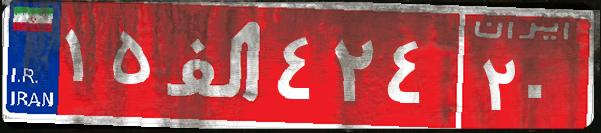0: (525, 38, 570, 115)
1: (57, 26, 110, 107)
2: (330, 28, 385, 110), (475, 38, 525, 113)
4: (385, 28, 445, 110), (273, 28, 330, 110)
5: (110, 28, 158, 105)
الف: (158, 15, 273, 115)
